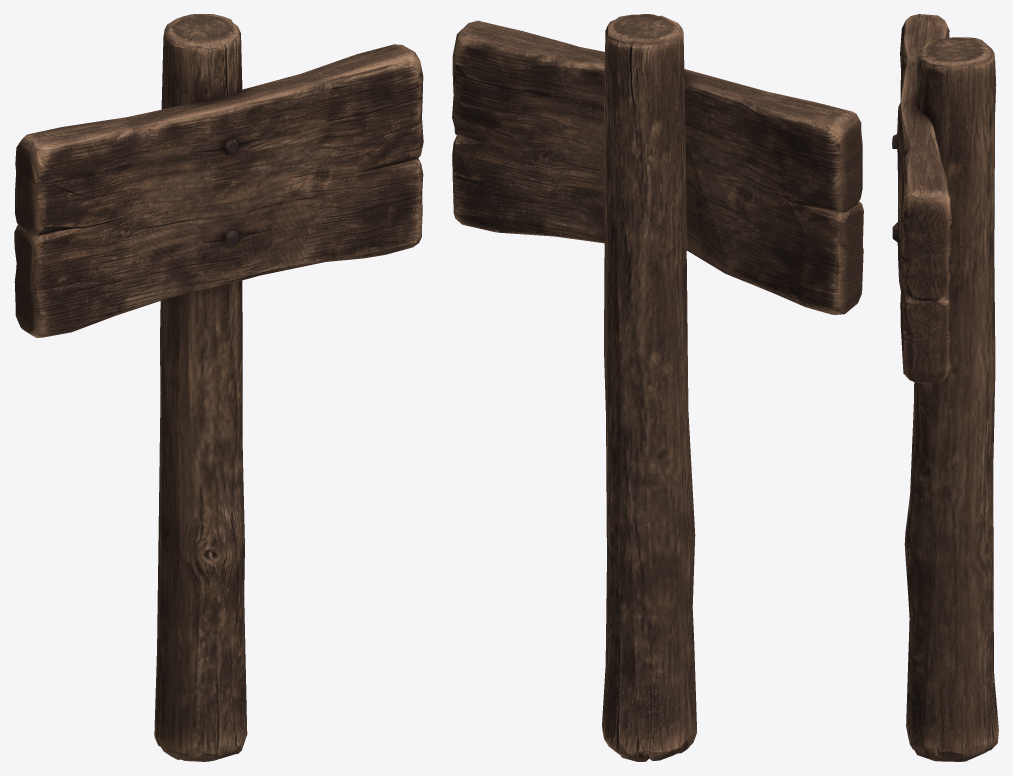
Rendered from away_sign_meshy_01a1a906.glb.
The picture shows the model from 3 angles, left to right: view 1: azimuth 30°, elevation 25°; view 2: azimuth 150°, elevation 25°; view 3: azimuth 270°, elevation 25°; orthographic projection. The views are drawn at different scales.
Bounding box in the file's own units: 1.08 × 1.9 × 0.2613.
Materials: 1 (1 with a texture image).
